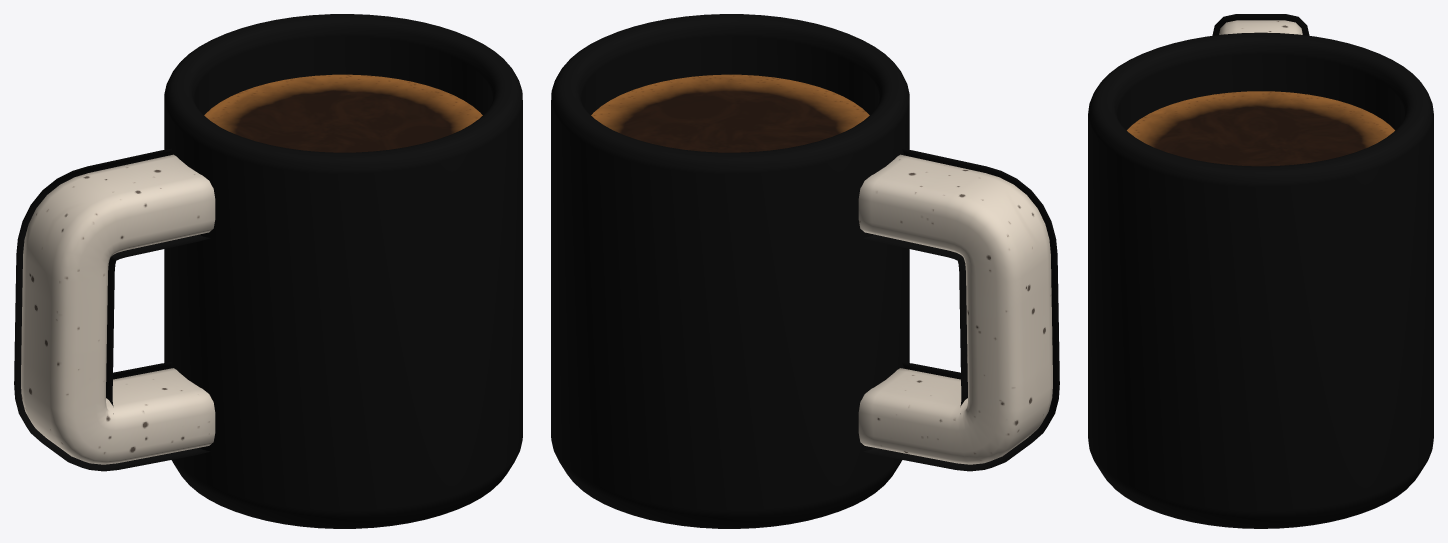
File: Mug_Full.fbx
The picture shows the model from 3 angles, left to right: view 1: azimuth 30°, elevation 25°; view 2: azimuth 150°, elevation 25°; view 3: azimuth 270°, elevation 25°; orthographic projection. The views are drawn at different scales.
Parts seen in each view (by area): view 1: Mug_Full; view 2: Mug_Full; view 3: Mug_Full.
Part boxes in pixels (x1,y1,x2,y2): Mug_Full: [14, 14, 522, 528]; Mug_Full: [551, 14, 1059, 528]; Mug_Full: [1088, 14, 1433, 528].
Bounding box in the file's own units: 0.1282 × 0.0982 × 0.0852.
Materials: 1 (1 with a texture image).
